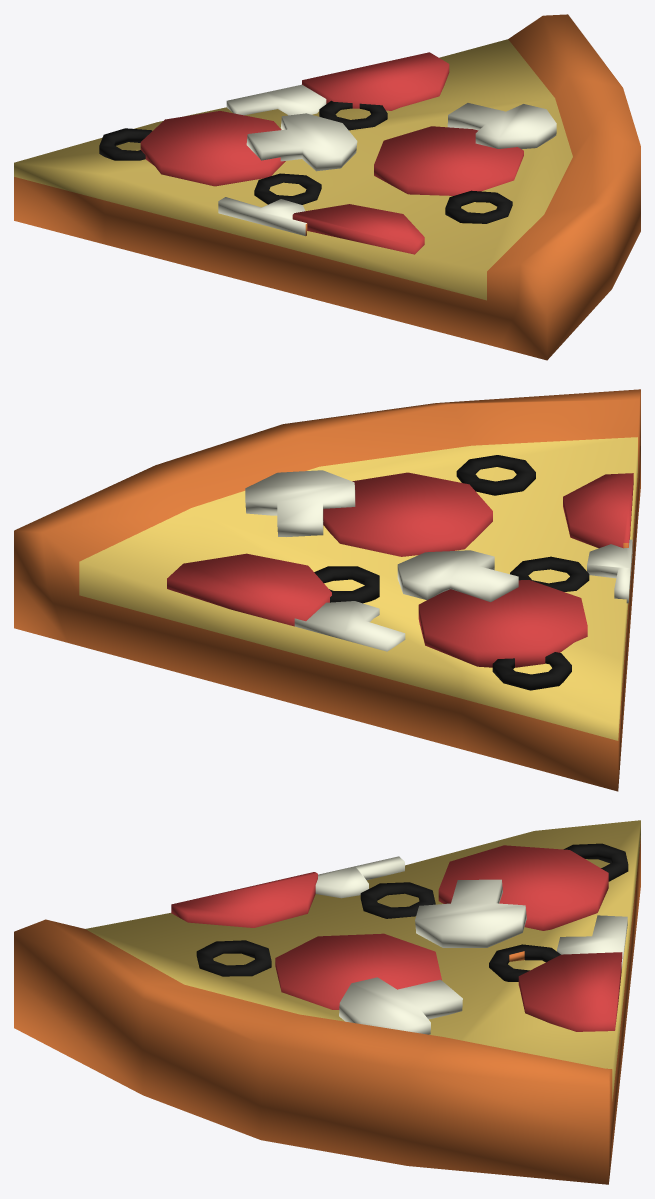
The model's file is Pizza.fbx.
The picture shows the model from 3 angles, top to bottom: view 1: azimuth 30°, elevation 25°; view 2: azimuth 150°, elevation 25°; view 3: azimuth 270°, elevation 25°; orthographic projection. The views are drawn at different scales.
Parts seen in each view (by area): view 1: Cylinder.1257; view 2: Cylinder.1257; view 3: Cylinder.1257.
Part boxes in pixels (box(x1,y1,x2,y2)): Cylinder.1257: box(14, 14, 640, 360); Cylinder.1257: box(14, 389, 640, 791); Cylinder.1257: box(14, 820, 640, 1184).
Bounding box in the file's own units: 31.51 × 5.33 × 27.95.
1 material, 1 textured.
